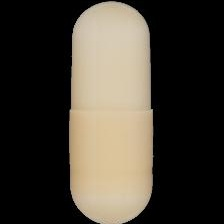16590-631: (0, 0, 224, 224)
